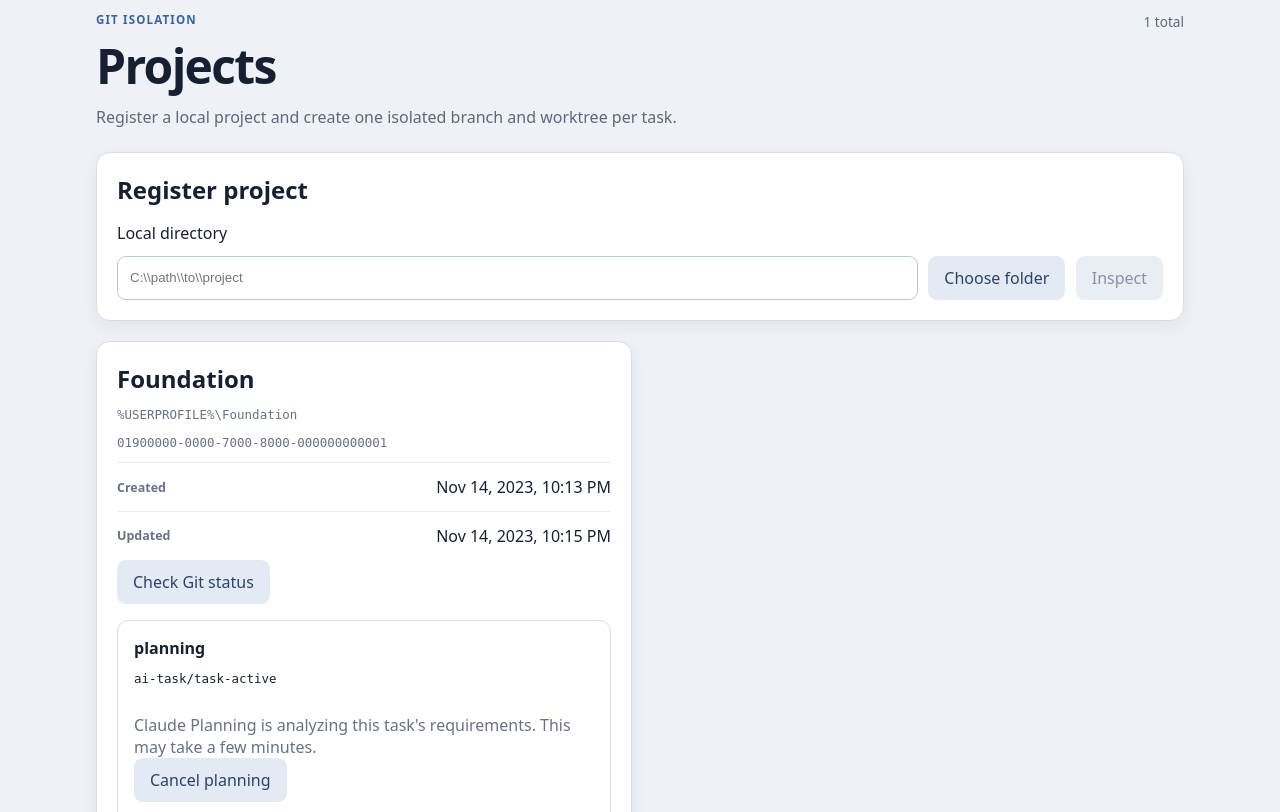
shows a safe recovery notice when cancel finds no matching registry entry
Step 1. Click the button "Cancel planning" → {"x": 210, "y": 780}, box left=134, top=758, right=286, bottom=802
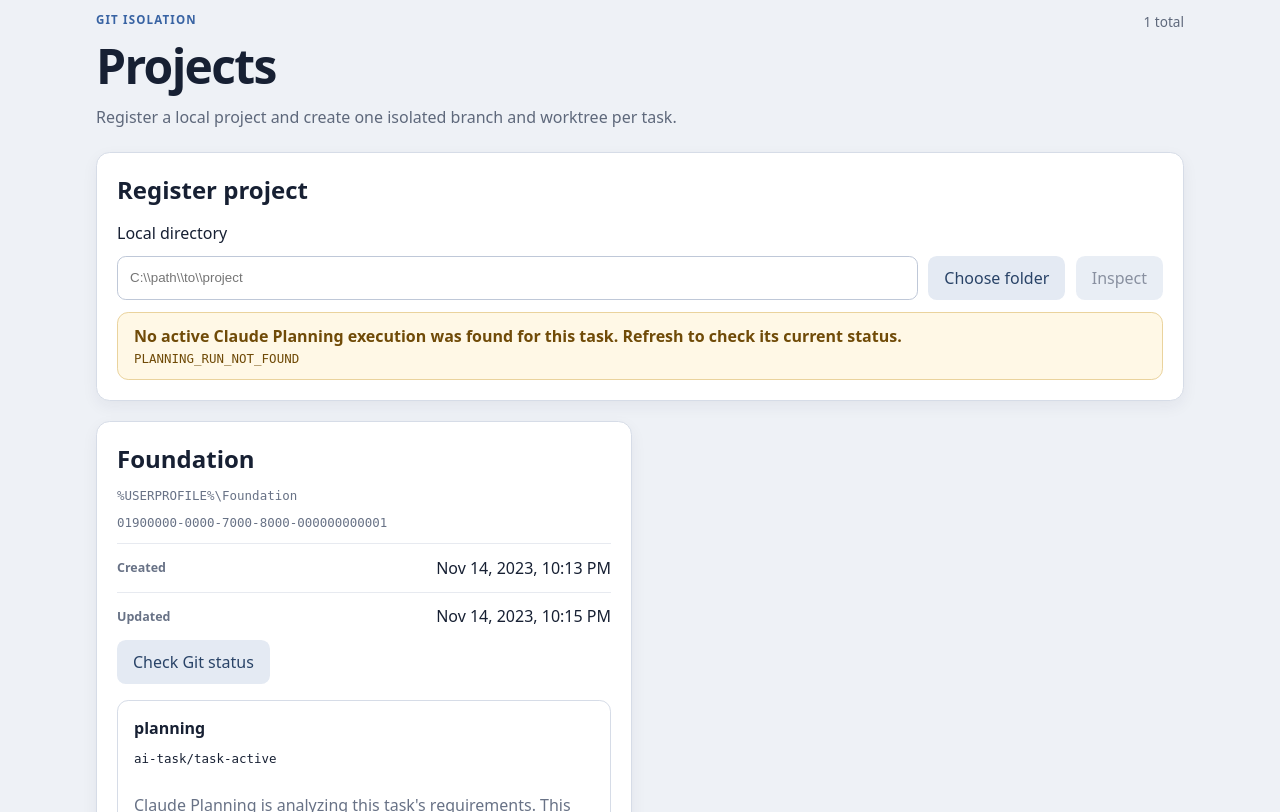
Now the text "No active Claude Planning execution was found" is shown, box left=134, top=325, right=902, bottom=347
